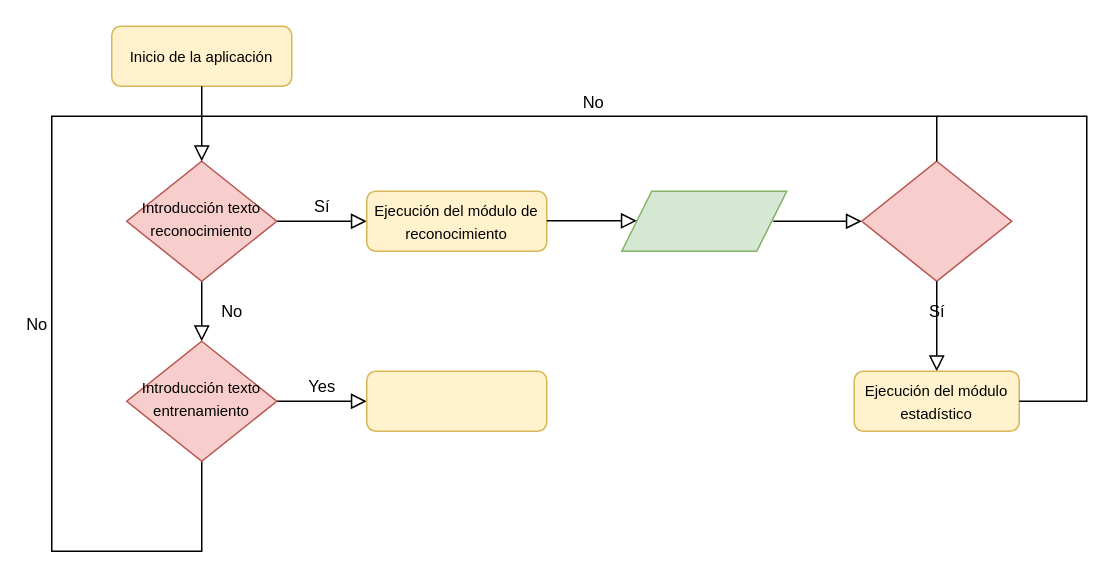
The diagram is 1115 pixels wide and 579 high, and some of its shapes have lost their labels. The shapes that lost their labels are listed below. From the top down, each one's box as (x1, y1, x2, y2) in pixels, then its label:
(620, 190, 787, 251): Resultado
(860, 160, 1012, 281): Introducción de retroalimentación
(365, 370, 547, 431): Ejecución del módulo de entrenamiento
